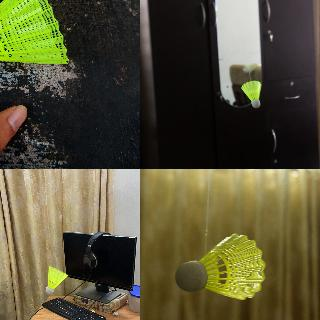shuttlecock: (175, 232, 265, 300), (0, 0, 71, 69), (45, 266, 67, 294), (241, 80, 261, 108)
